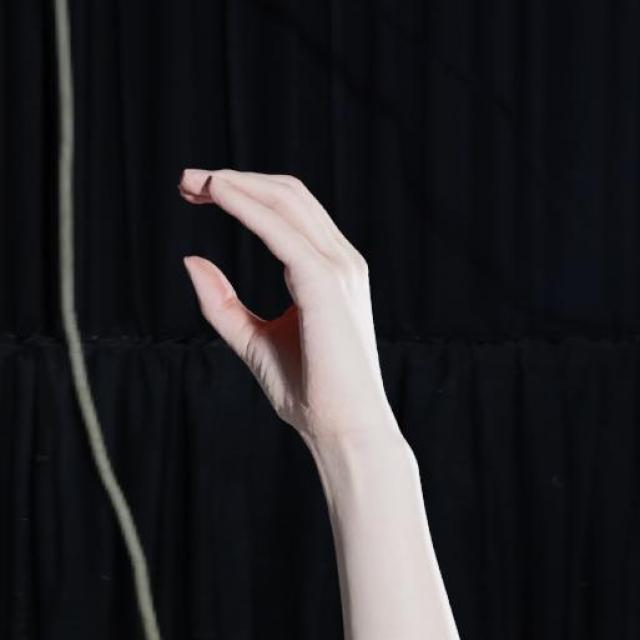C: (175, 169, 404, 481)
